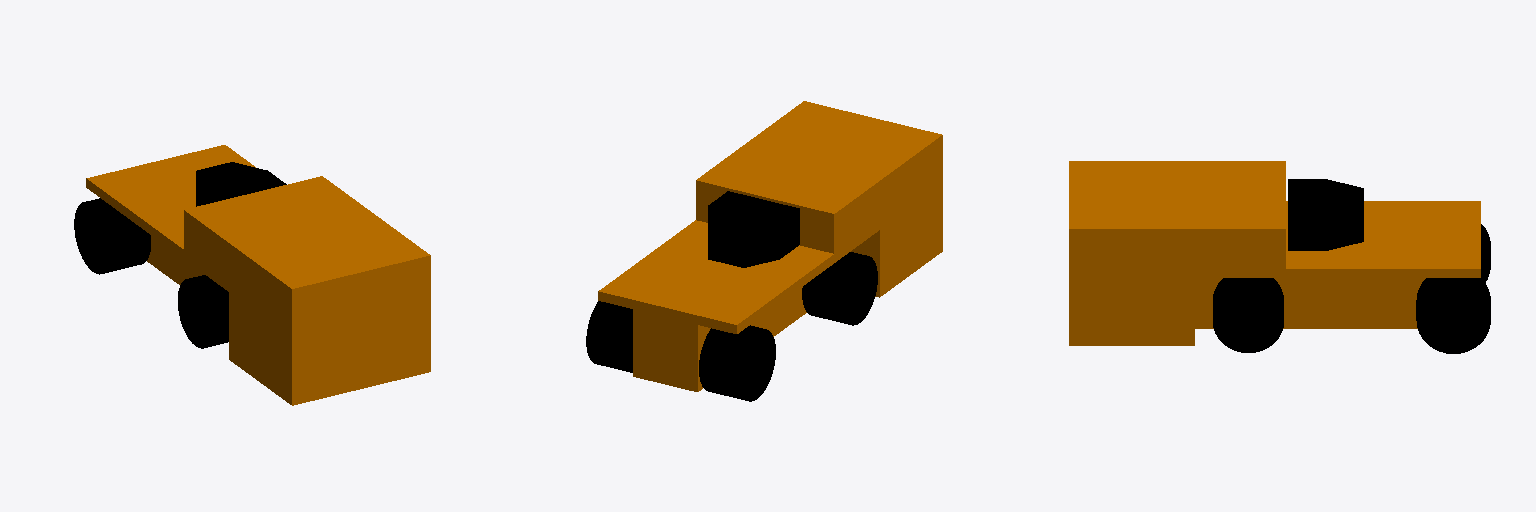
The model's file is m27_body.obj.
3 renders of one model, left to right at view 1: azimuth 30°, elevation 25°; view 2: azimuth 150°, elevation 25°; view 3: azimuth 270°, elevation 25°, orthographic.
Parts seen in each view (by area): view 1: Cube, Cylinder, Cylinder.001, Cube.003; view 2: Cube, Cylinder, Cube.003, Cylinder.001; view 3: Cube, Cylinder, Cube.003, Cylinder.001.
Boxes of the visible parts, x1=… form: Cube: x1=86, y1=145, x2=430, y2=405; Cylinder: x1=74, y1=198, x2=150, y2=274; Cylinder.001: x1=178, y1=275, x2=228, y2=348; Cube.003: x1=196, y1=162, x2=286, y2=206; Cube: x1=598, y1=101, x2=942, y2=391; Cylinder: x1=586, y1=301, x2=775, y2=401; Cube.003: x1=708, y1=191, x2=799, y2=267; Cylinder.001: x1=802, y1=252, x2=877, y2=325; Cube: x1=1069, y1=161, x2=1480, y2=345; Cylinder: x1=1416, y1=224, x2=1490, y2=353; Cube.003: x1=1288, y1=179, x2=1363, y2=250; Cylinder.001: x1=1213, y1=278, x2=1283, y2=352.
Size of the model in its own units: 0.7751 by 0.5916 by 1.86.